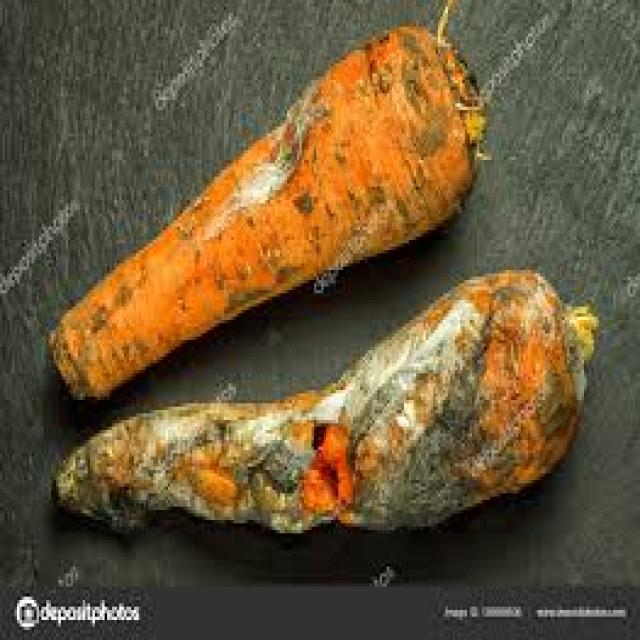Stale_Carrot: (58, 35, 489, 397), (50, 269, 598, 531)
